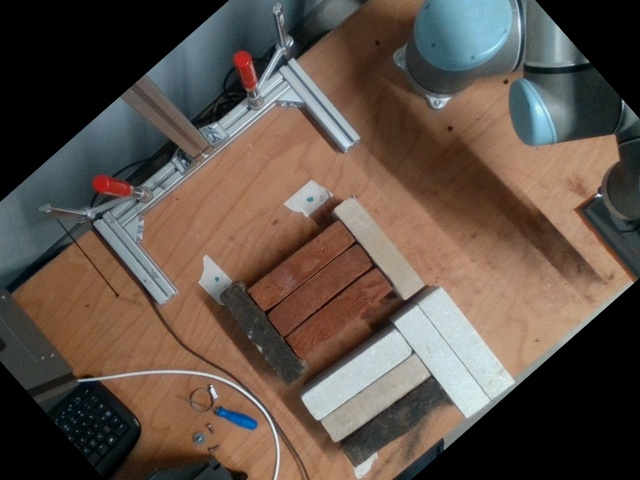brick-side: (419, 289, 512, 399), (395, 306, 488, 416), (301, 330, 412, 422), (321, 355, 430, 444), (339, 379, 446, 465), (249, 223, 353, 311), (268, 246, 372, 334), (286, 270, 390, 357), (335, 199, 422, 298), (219, 284, 303, 386)
